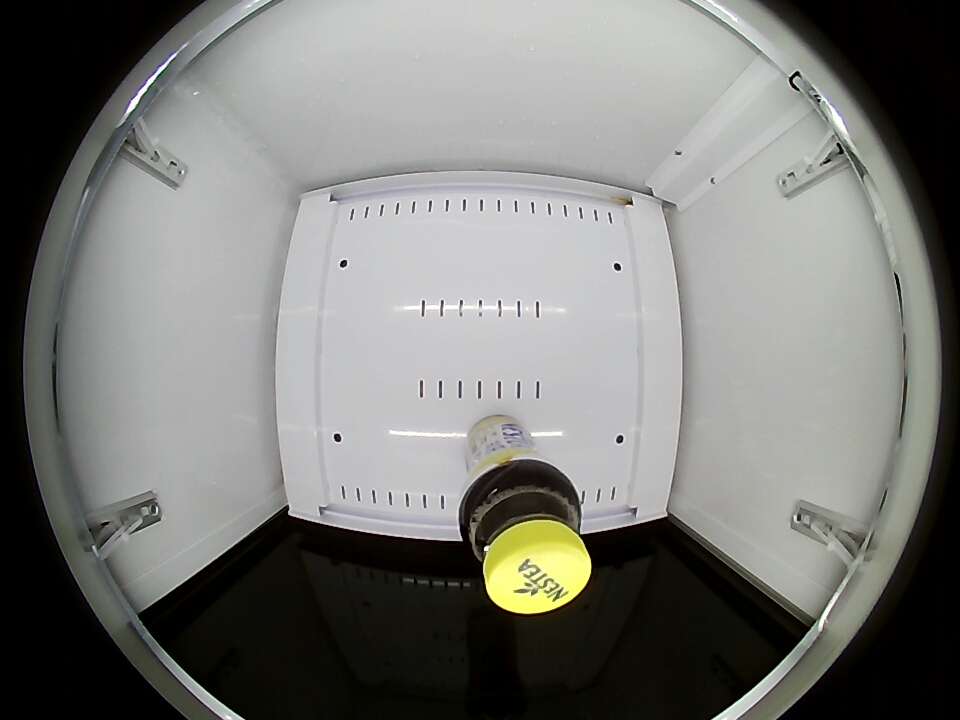chacui: (460, 466, 591, 614)
